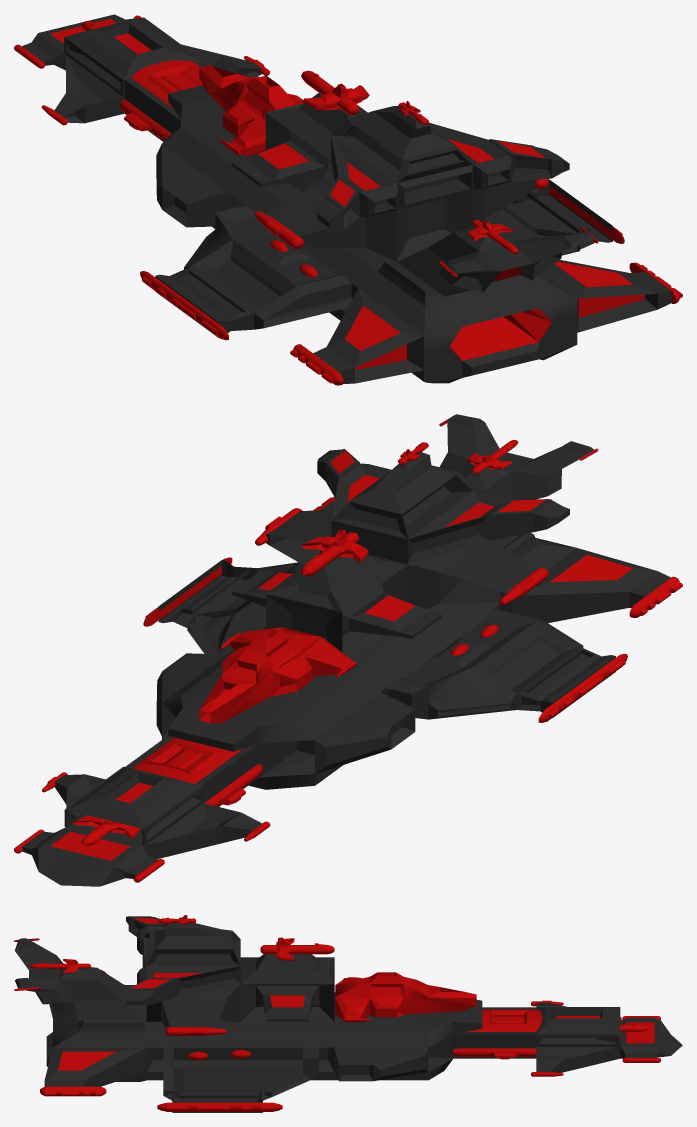
The model's file is VaisseauInvocateur.fbx.
The picture shows the model from 3 angles, top to bottom: view 1: azimuth 30°, elevation 25°; view 2: azimuth 150°, elevation 25°; view 3: azimuth 270°, elevation 25°; orthographic projection. The views are drawn at different scales.
Visible parts, largest first — view 1: Box001; view 2: Box001; view 3: Box001.
Part boxes in pixels (x1,y1,x2,y2): Box001: [14, 14, 682, 385]; Box001: [14, 414, 682, 886]; Box001: [14, 915, 682, 1112].
Size of the model in its own units: 2.54 by 5.06 by 1.23.
